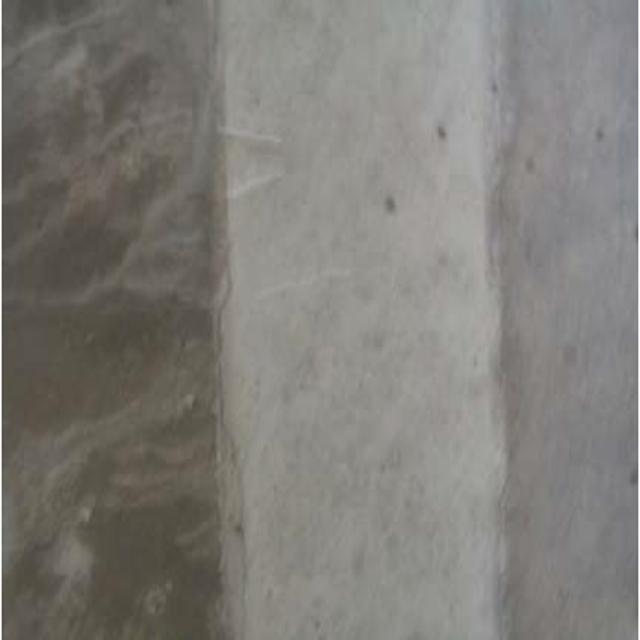crack: (206, 173, 284, 590)
